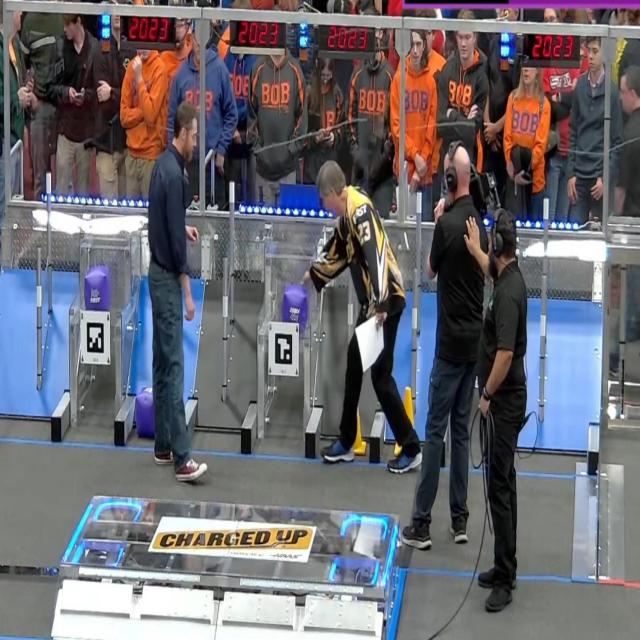frc_cone: (353, 408, 367, 454), (404, 387, 416, 422)
frc_cube: (135, 387, 157, 440), (85, 267, 111, 310), (283, 287, 310, 328)
